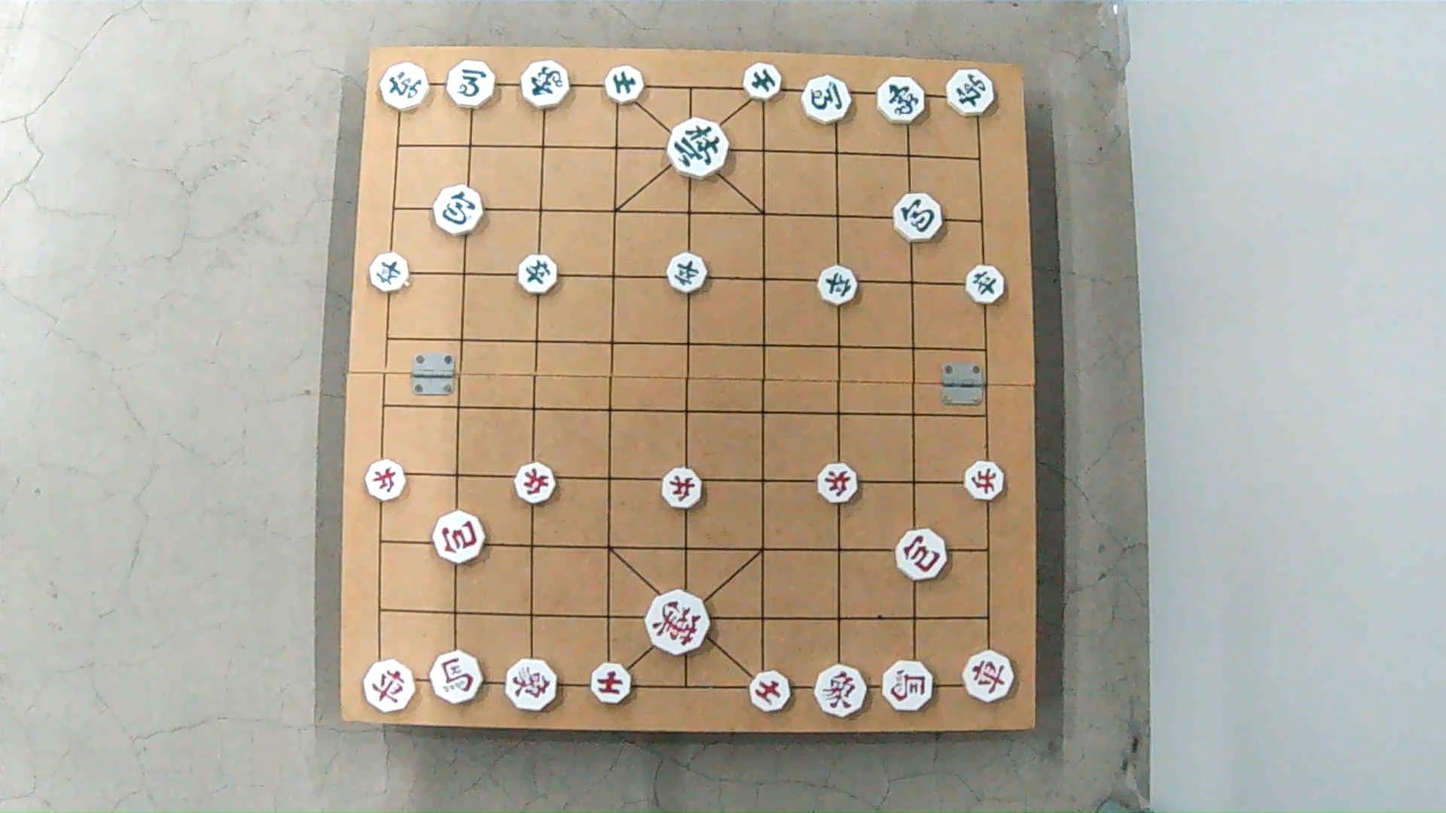cha_green: (944, 68, 996, 118), (380, 61, 429, 111)
cha_red: (961, 650, 1014, 705), (364, 661, 416, 711)
jol_green: (668, 255, 710, 293), (520, 255, 560, 294), (816, 266, 857, 304), (369, 254, 411, 291), (964, 266, 1005, 303)
jol_red: (816, 464, 861, 503), (365, 463, 409, 501), (660, 470, 701, 510), (517, 464, 560, 502), (961, 463, 1003, 501)
ma_green: (800, 77, 850, 122), (447, 64, 497, 108)
ma_red: (882, 659, 937, 712), (429, 653, 482, 702)
po_green: (431, 188, 482, 236), (892, 196, 940, 242)
po_red: (898, 531, 950, 581), (431, 513, 484, 562)
sa_green: (740, 65, 781, 101), (606, 68, 647, 103)
sa_red: (746, 672, 792, 711), (590, 664, 632, 703)
sang_green: (520, 60, 570, 108), (876, 78, 926, 123)
sang_red: (813, 663, 871, 716), (508, 656, 560, 712)
wang_green: (667, 119, 731, 175)
wang_red: (646, 594, 709, 653)
